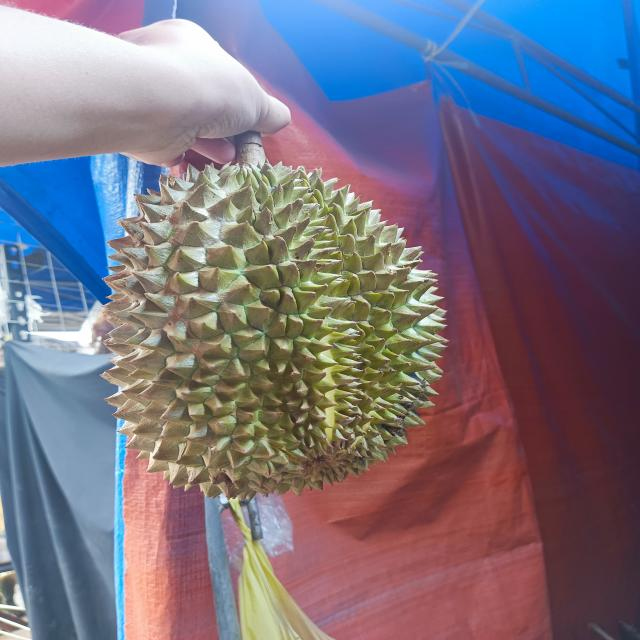mature: (104, 132, 447, 499)
